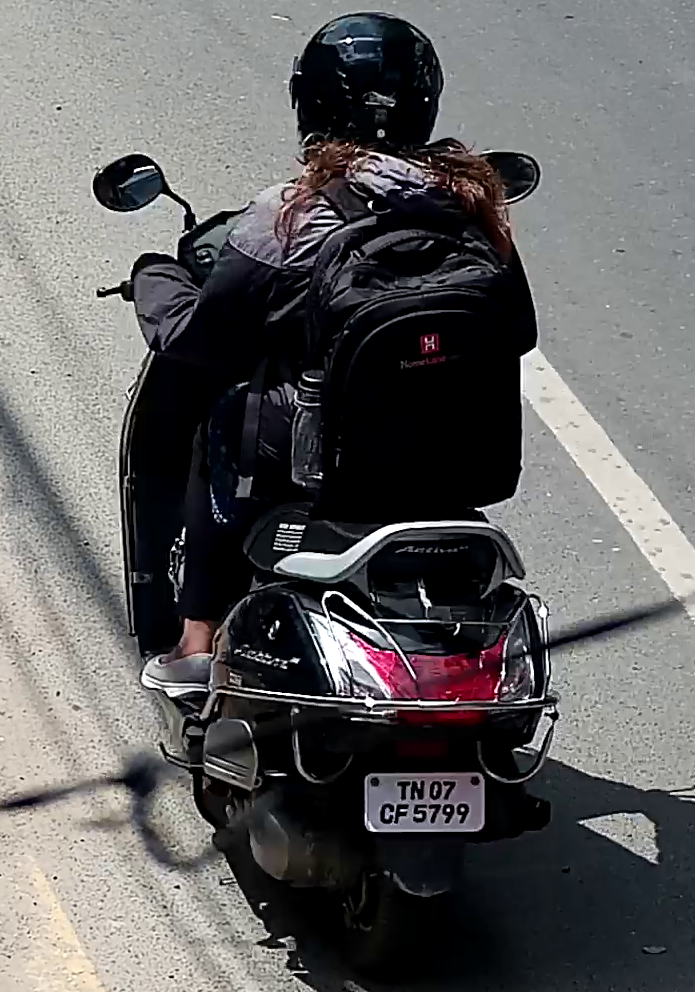0: (429, 780, 442, 800)
5: (413, 802, 427, 821)
7: (443, 780, 456, 800), (429, 803, 441, 823)
9: (457, 802, 470, 823), (442, 803, 455, 823)
C: (380, 802, 394, 824)
F: (395, 802, 409, 824)
N: (412, 779, 425, 799)
P16: (363, 768, 487, 837)
T: (397, 779, 411, 799)
